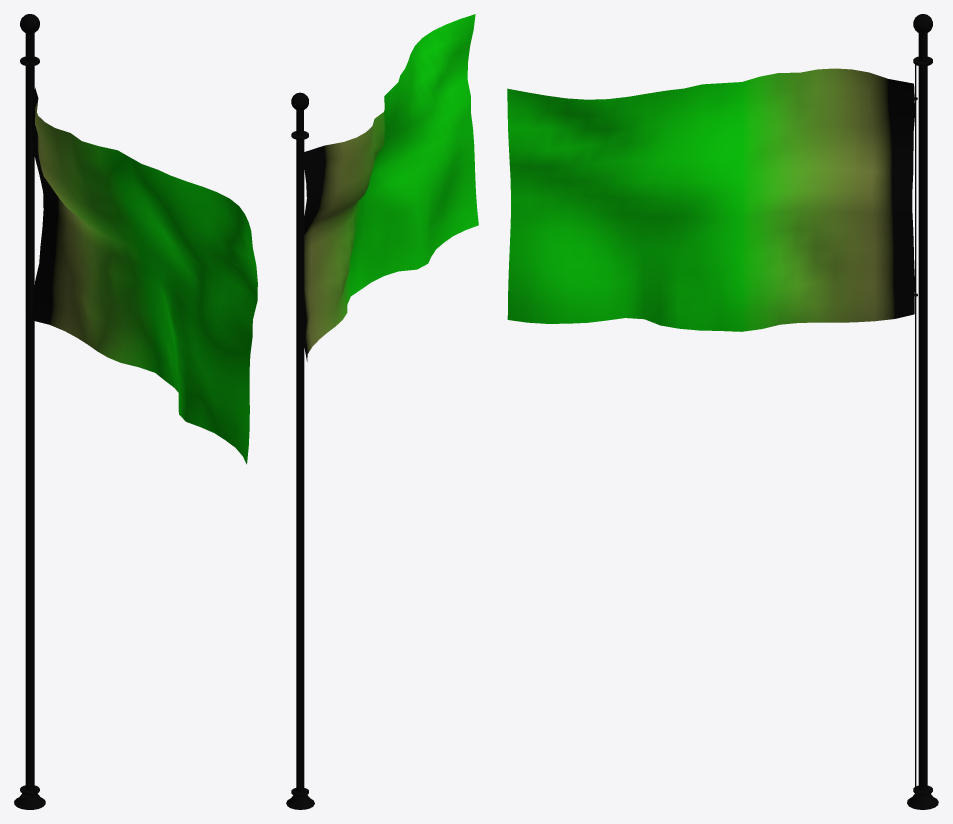
File: TTFEFlag.fbx
3 views of the same model, side by side, from view 1: azimuth 30°, elevation 25°; view 2: azimuth 150°, elevation 25°; view 3: azimuth 270°, elevation 25° (orthographic). The views are drawn at different scales.
Visible parts, largest first — view 1: TTFEFlag; view 2: TTFEFlag; view 3: TTFEFlag.
Part boxes in pixels (left/top/right/bottom): TTFEFlag: left=14, top=14, right=257, bottom=809; TTFEFlag: left=286, top=14, right=478, bottom=809; TTFEFlag: left=507, top=14, right=938, bottom=809.
Size of the model in its own units: 0.2755 by 3.18 by 1.58.
